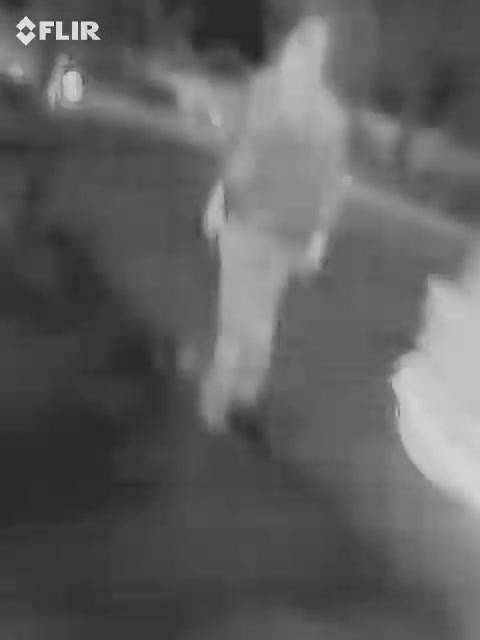head: (281, 15, 336, 85)
